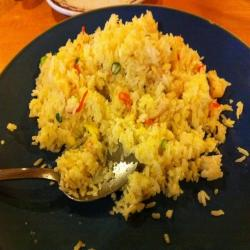rice: (25, 23, 233, 208)
